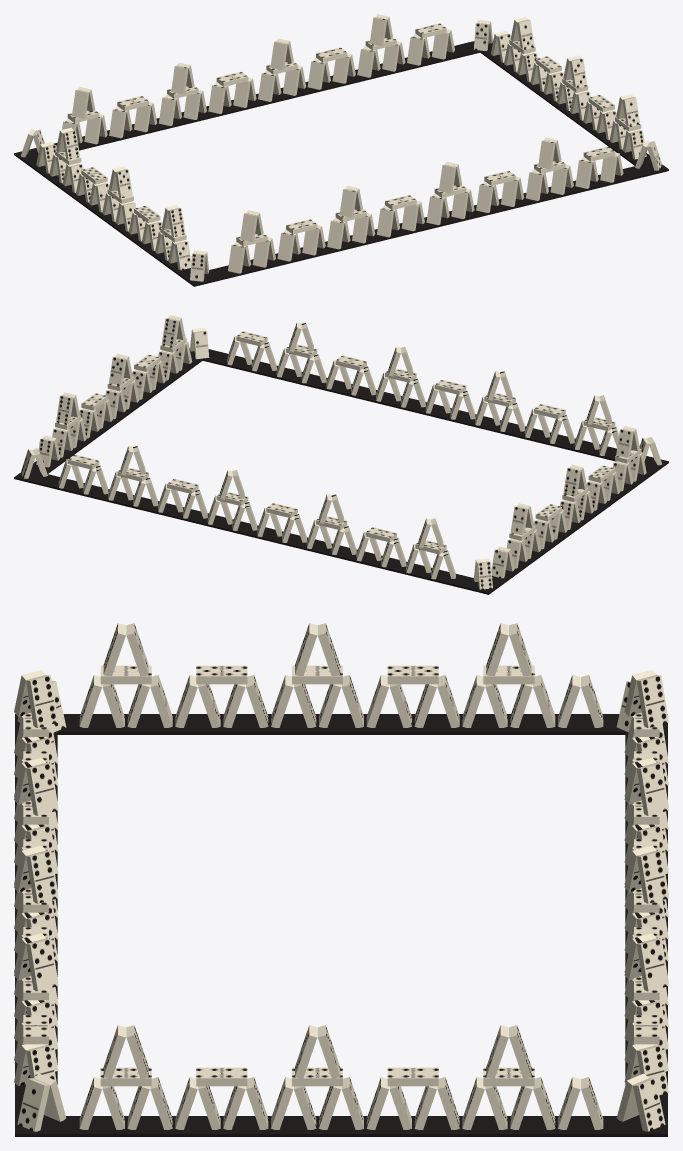
The model's file is Rim_Dominoes.fbx.
The picture shows the model from 3 angles, top to bottom: view 1: azimuth 30°, elevation 25°; view 2: azimuth 150°, elevation 25°; view 3: azimuth 270°, elevation 25°; orthographic projection. The views are drawn at different scales.
Parts seen in each view (by area): view 1: Rim_Dominoes; view 2: Rim_Dominoes; view 3: Rim_Dominoes.
Boxes of the visible parts, <box> form: Rim_Dominoes: <box>14,14,668,286</box>; Rim_Dominoes: <box>14,315,668,594</box>; Rim_Dominoes: <box>14,623,668,1136</box>.
Size of the model in its own units: 3.5 by 0.3801 by 2.31.
1 material, 1 textured.
